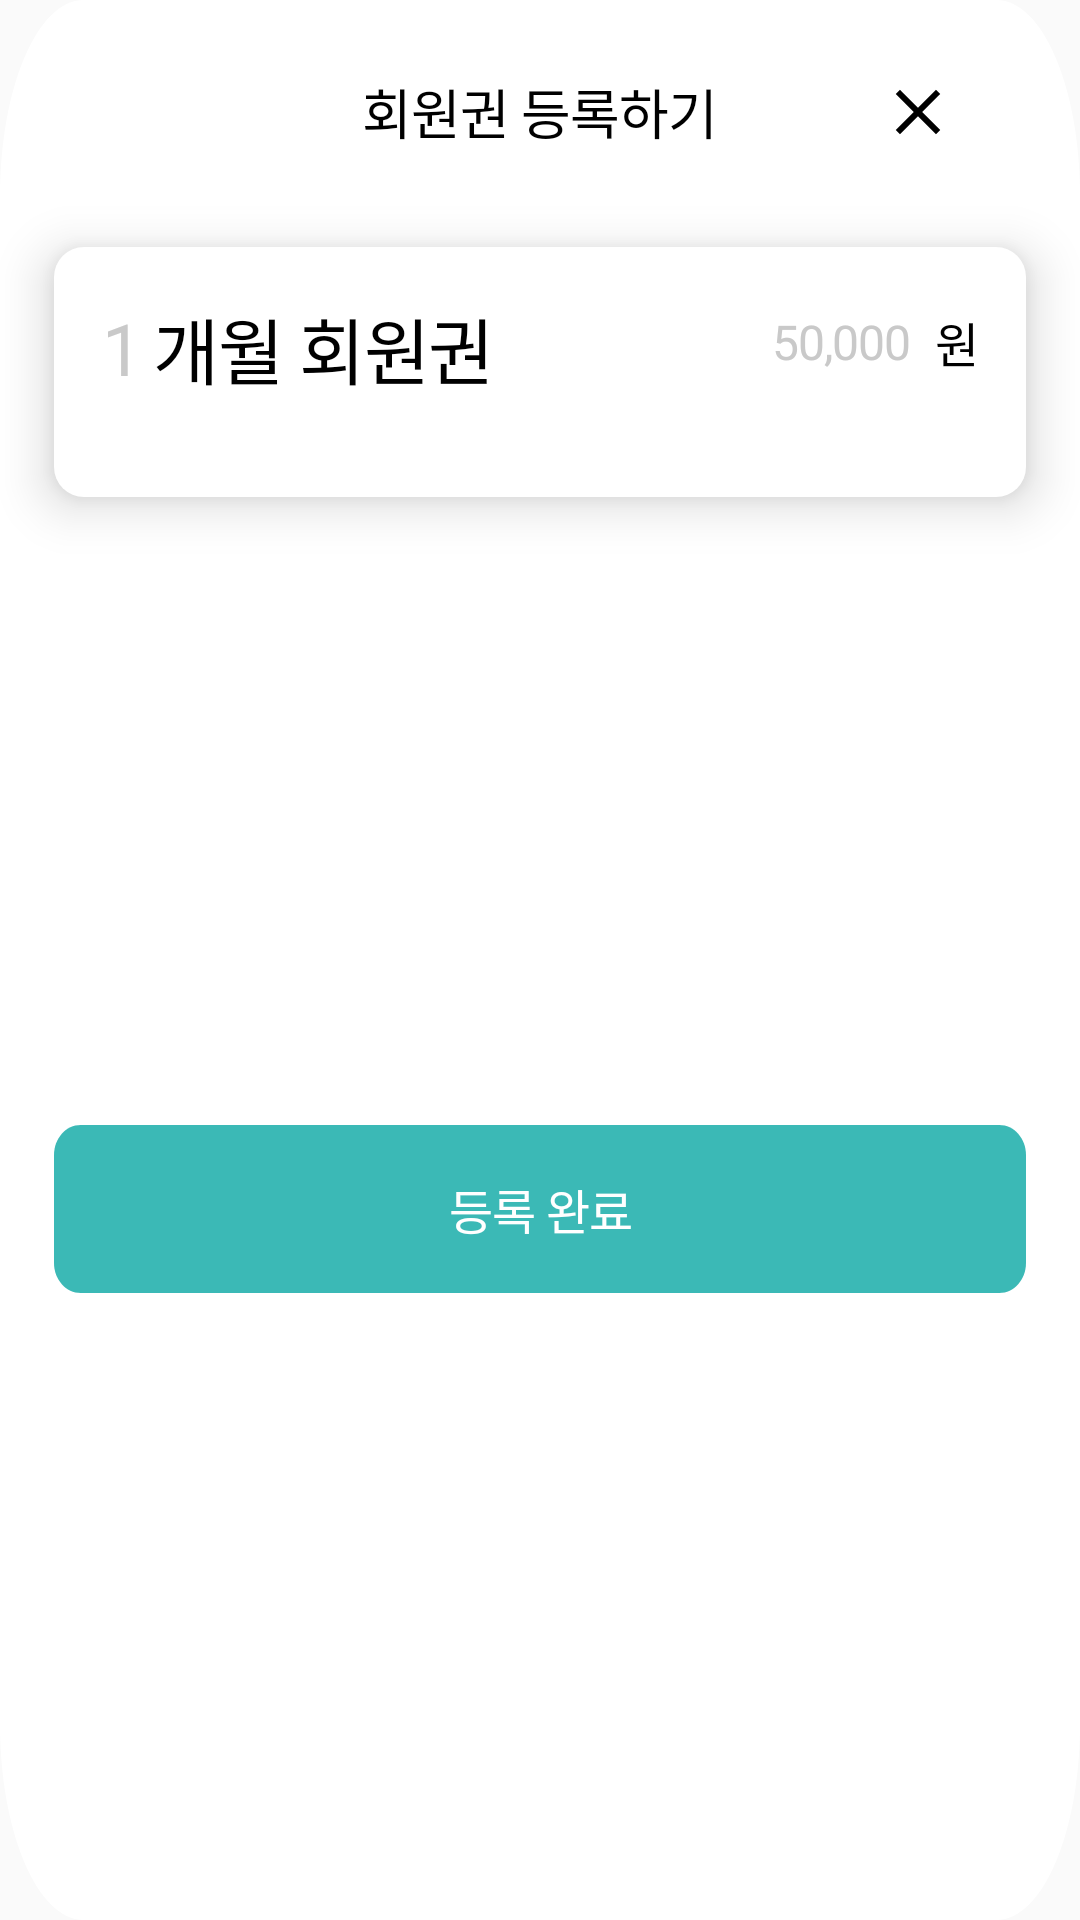

Point at icon controls on the screen. Image size 1080px x 1920px, points as point (x, y).
close: point (918, 112)
